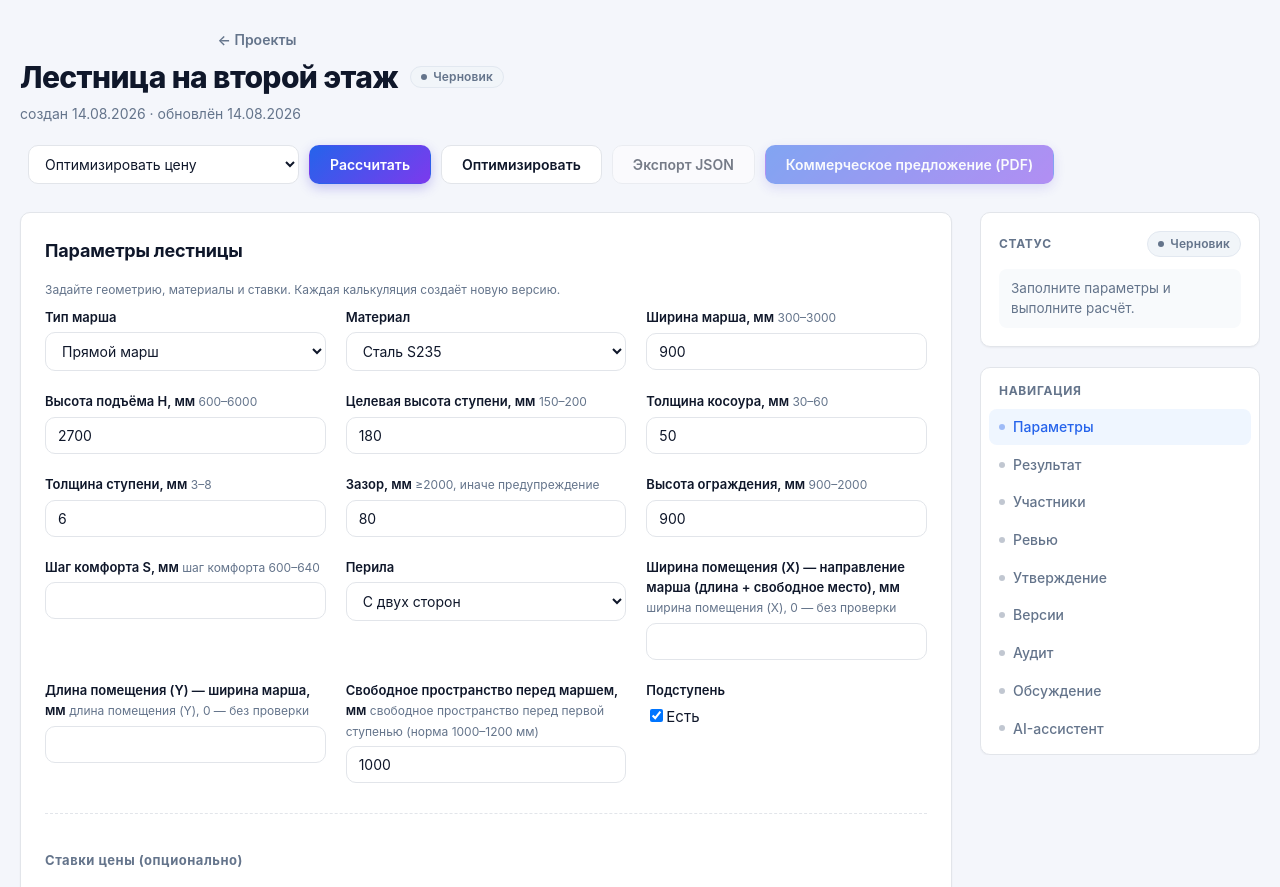
Scenario: ProjectDetail › показывает ошибку при неудачном расчёте
Expected: the heading "Лестница на второй этаж Черновик" is shown, [20, 59, 504, 95]
Click the button "Рассчитать". click: (370, 164)
box: [309, 145, 431, 184]
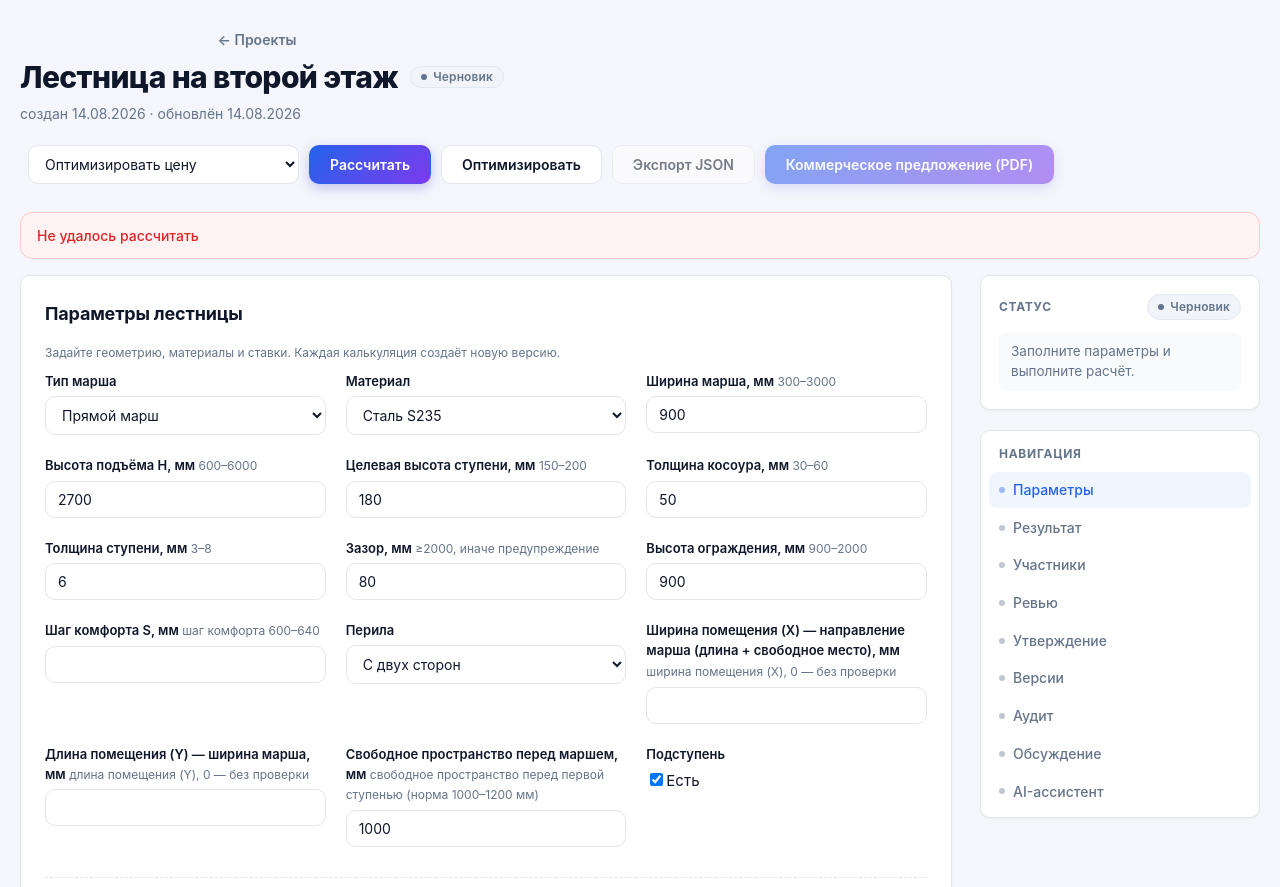
Expected: the text "Не удалось рассчитать" is shown, [20, 212, 1260, 259]
